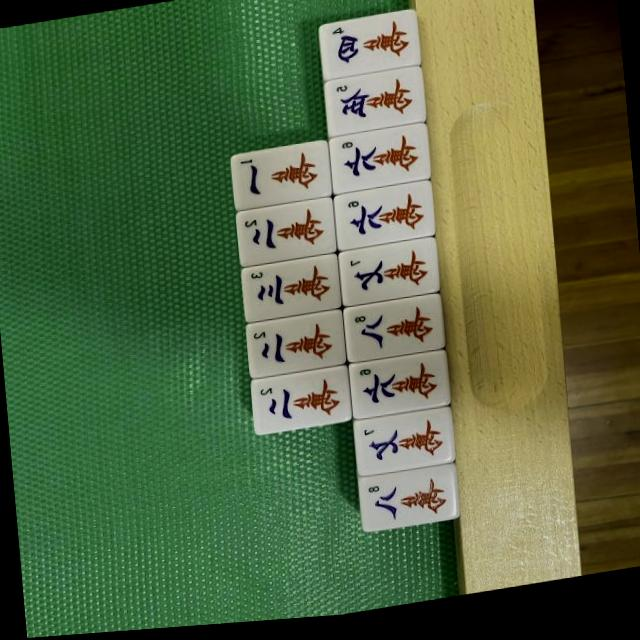sc1: (230, 143, 332, 214)
sc2: (250, 368, 352, 439), (236, 200, 338, 271), (246, 312, 344, 381)
sc3: (242, 257, 342, 325)
sc4: (318, 14, 418, 85)
sc5: (324, 71, 426, 142)
sc6: (329, 127, 432, 199), (334, 186, 436, 255), (349, 355, 450, 424)
sc7: (338, 241, 440, 311), (354, 412, 454, 480)
sc8: (343, 298, 444, 367), (359, 468, 457, 536)
